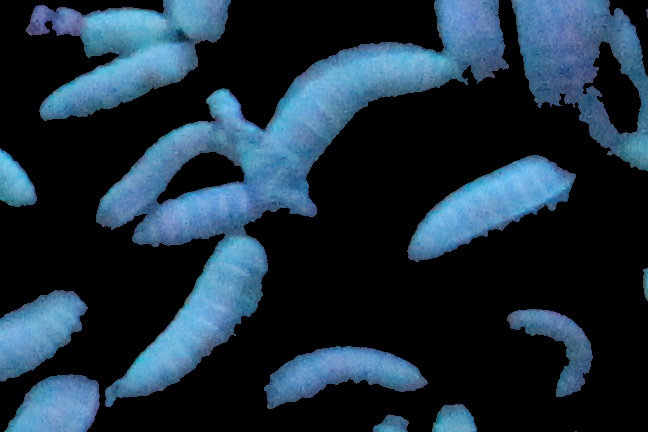larvae: (255, 48, 473, 169), (109, 235, 266, 401), (409, 153, 571, 267), (517, 1, 638, 151), (30, 42, 193, 128), (101, 121, 225, 228), (264, 346, 434, 414), (133, 181, 246, 257), (1, 282, 88, 379), (508, 308, 591, 405), (433, 1, 508, 81), (7, 372, 103, 432), (75, 1, 177, 53), (159, 1, 235, 44), (1, 144, 39, 209)
